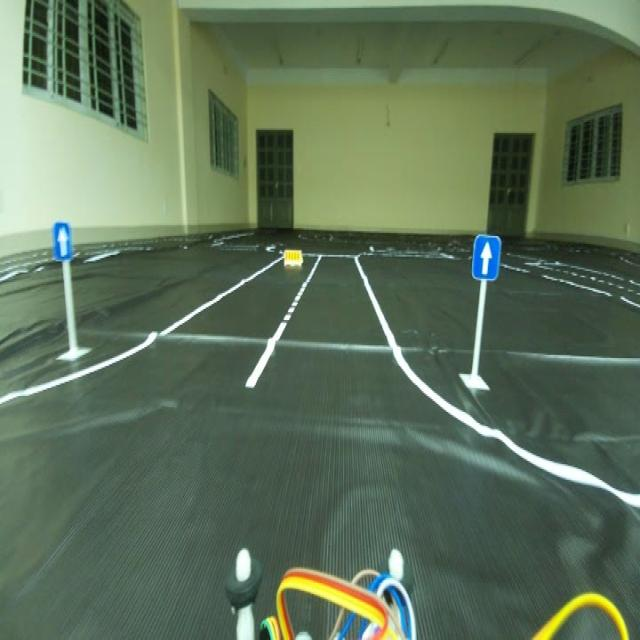onewayroad: (472, 229, 500, 286), (52, 219, 78, 263)
roadblock: (279, 245, 305, 272)
